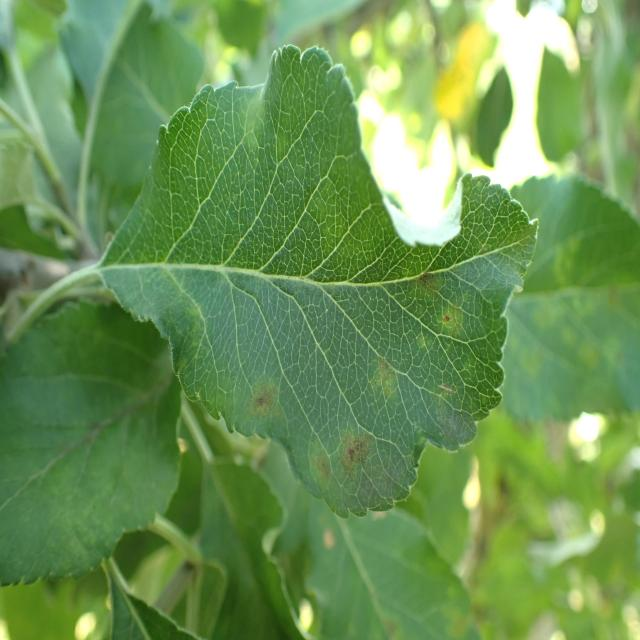scab: (193, 248, 528, 513), (28, 343, 174, 561)
